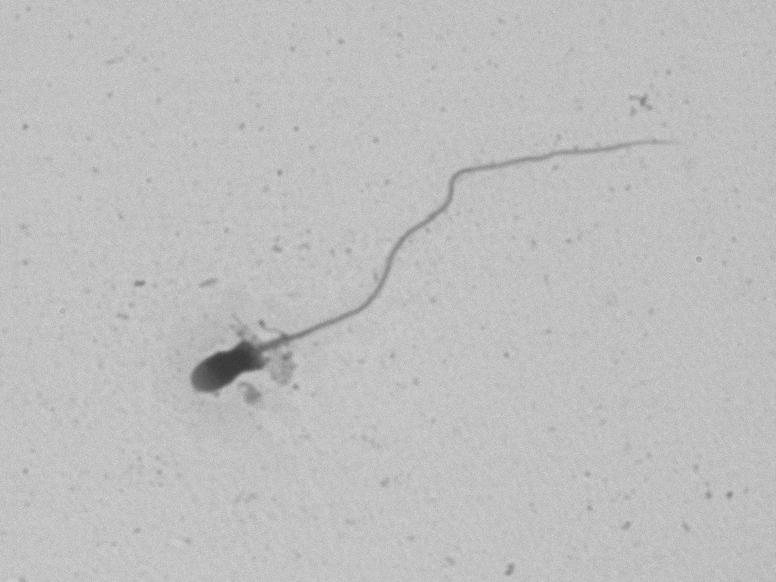Abnormal: (154, 50, 702, 432)
